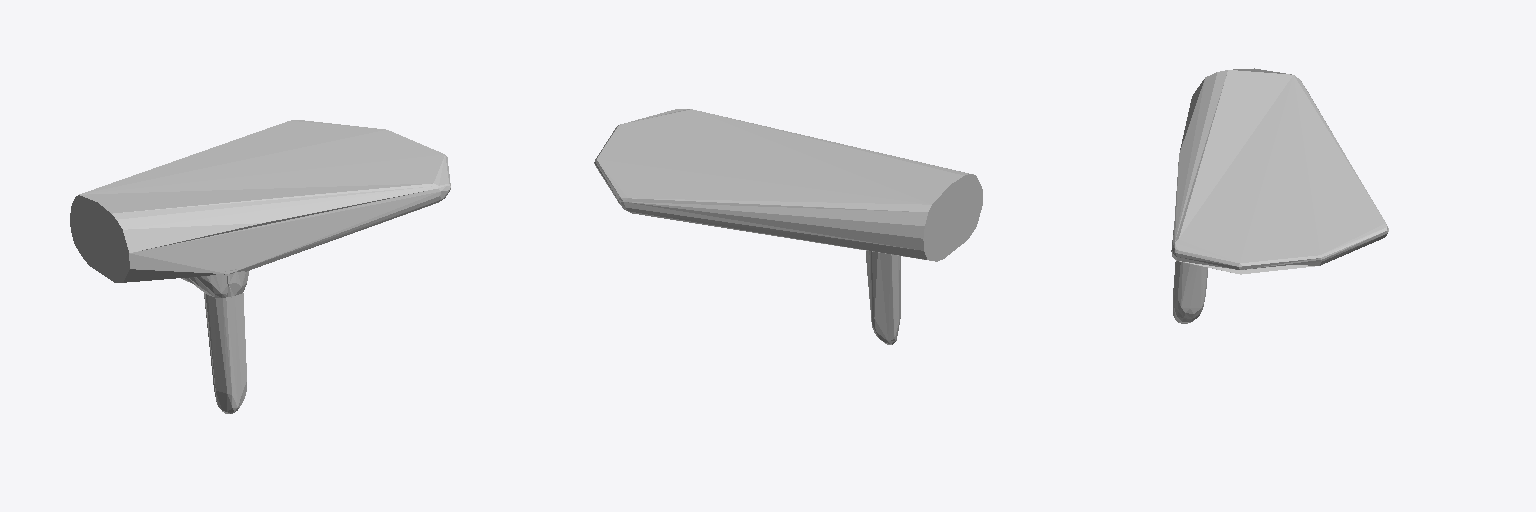
Rendered from armar6-left-hand-full-col.obj.
3 views of the same model, side by side, from view 1: azimuth 30°, elevation 25°; view 2: azimuth 150°, elevation 25°; view 3: azimuth 270°, elevation 25° (orthographic).
Size of the model in its own units: 0.2805 by 0.1637 by 0.1547.